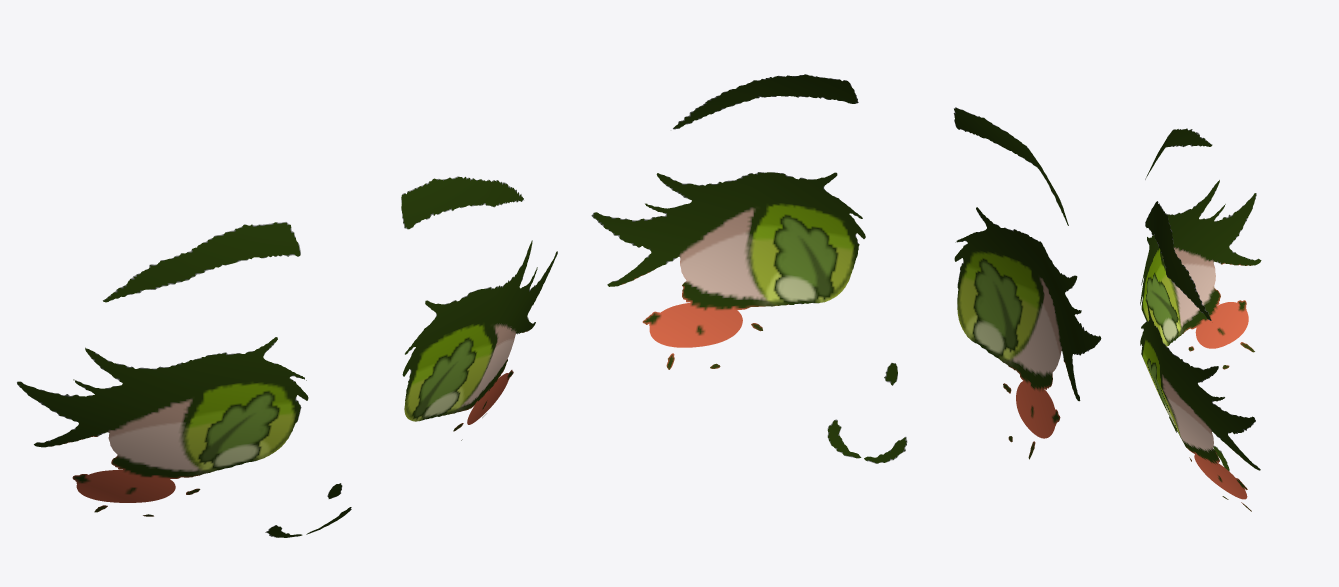
Rendered from face_VeggieWitch.fbx.
3 views of the same model, side by side, from view 1: azimuth 30°, elevation 25°; view 2: azimuth 150°, elevation 25°; view 3: azimuth 270°, elevation 25° (orthographic). The views are drawn at different scales.
Parts seen in each view (by area): view 1: Veggie_Body.001; view 2: Veggie_Body.001; view 3: Veggie_Body.001.
Part boxes in pixels (box(x1,y1,x2,y2)): Veggie_Body.001: box(17, 176, 557, 537); Veggie_Body.001: box(591, 74, 1101, 463); Veggie_Body.001: box(1140, 128, 1261, 511).
Size of the model in its own units: 65.32 by 57.77 by 23.64.
